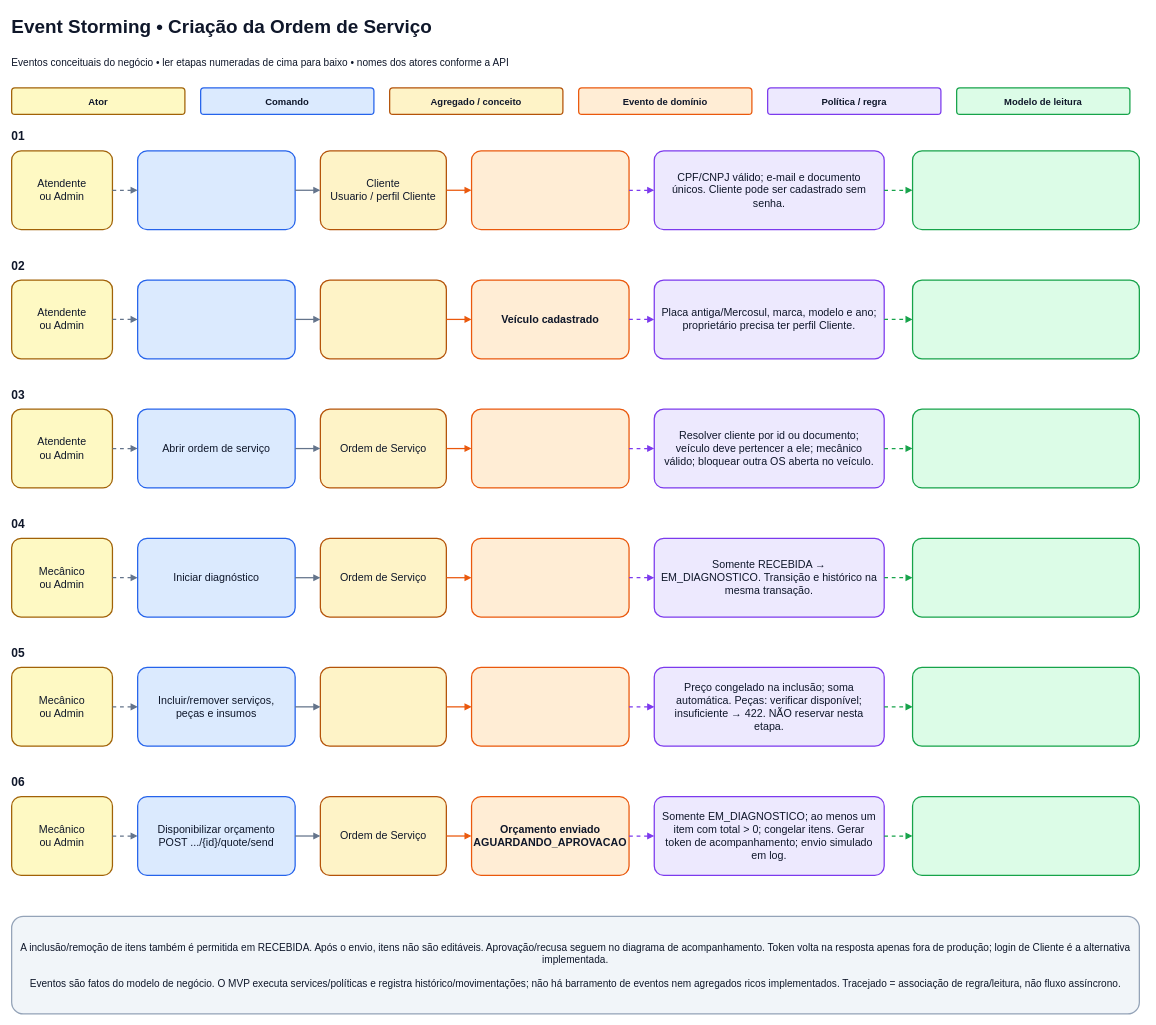
The diagram is 1156 pixels wide and 1025 high, and some of its shapes have lost their labels. Here are the shapes that lost their labels. From the top down, the box of each, then its label:
(137, 150, 295, 230): Cadastrar cliente (se não existir)
(471, 150, 629, 230): Cliente cadastrado
(912, 150, 1140, 230): Busca por CPF/CNPJ GET /customers
(137, 279, 295, 359): Cadastrar veículo (se não existir)
(319, 279, 447, 359): Veículo
(912, 279, 1140, 359): Veículos do cliente GET /customers/{id}/vehicles
(471, 408, 629, 488): OS recebida RECEBIDA
(912, 408, 1140, 488): OS e histórico Número sequencial
(471, 537, 629, 617): Diagnóstico iniciado EM_DIAGNOSTICO
(912, 537, 1140, 617): Fila/listagem de OS Filtro por status
(319, 667, 447, 747): Ordem de Serviço Itens / orçamento
(471, 667, 629, 747): Itens alterados Orçamento recalculado
(912, 667, 1140, 747): Orçamento da OS GET .../{id}/quote
(912, 796, 1140, 876): Cliente consulta orçamento e status em /tracking
